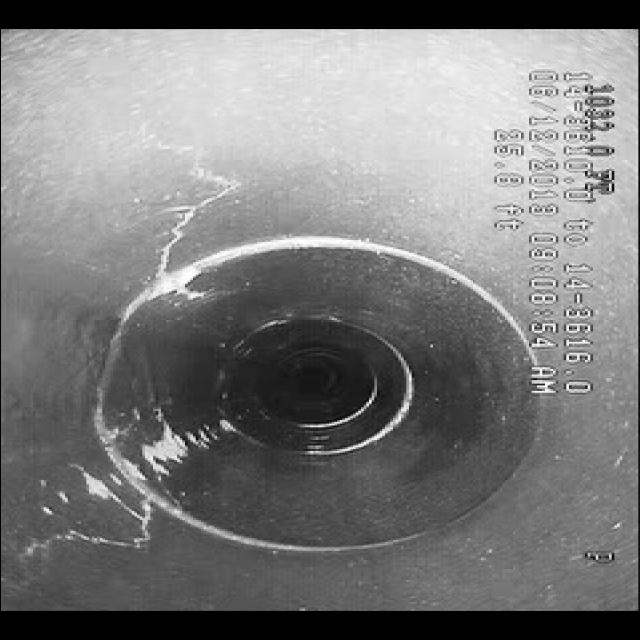Crack: (143, 130, 264, 234)
